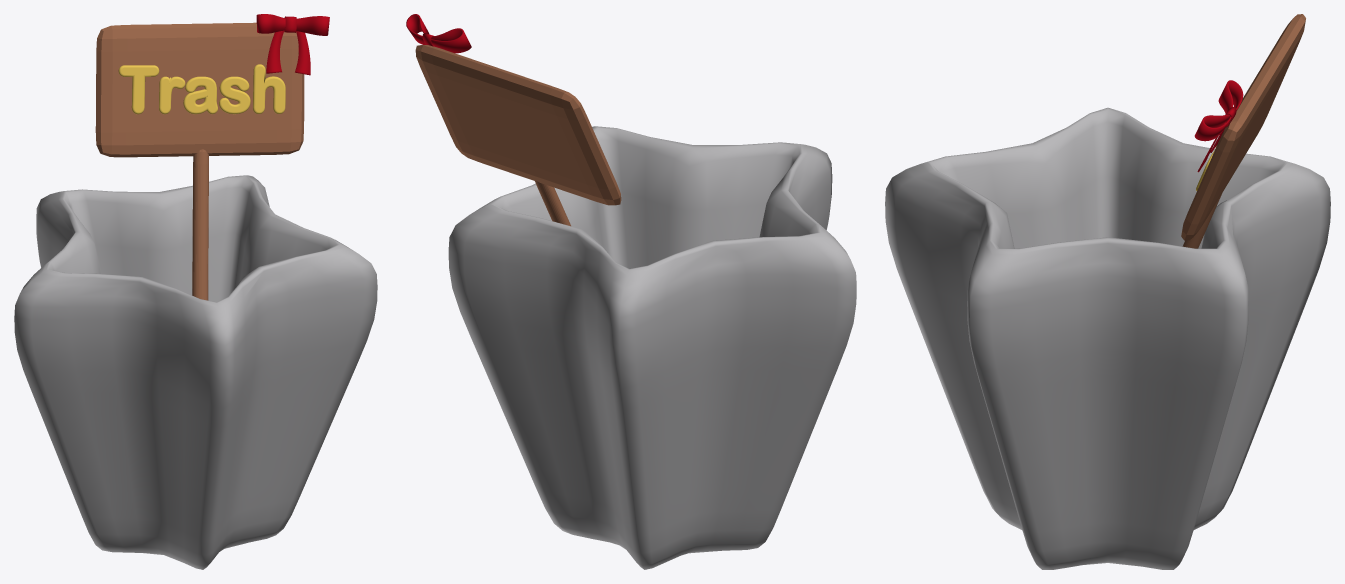
Rendered from Trashcan.fbx.
3 views of the same model, side by side, from view 1: azimuth 30°, elevation 25°; view 2: azimuth 150°, elevation 25°; view 3: azimuth 270°, elevation 25° (orthographic). The views are drawn at different scales.
Parts seen in each view (by area): view 1: Trashcan, Text; view 2: Trashcan, Text; view 3: Trashcan, Text.
Boxes of the visible parts, left/top/right/bottom form: Trashcan: left=14, top=175, right=377, bottom=569; Text: left=95, top=14, right=329, bottom=300; Trashcan: left=448, top=126, right=856, bottom=569; Text: left=406, top=14, right=621, bottom=226; Trashcan: left=885, top=107, right=1330, bottom=569; Text: left=1181, top=14, right=1305, bottom=248.
Bounding box in the file's own units: 255 × 310 × 234.
